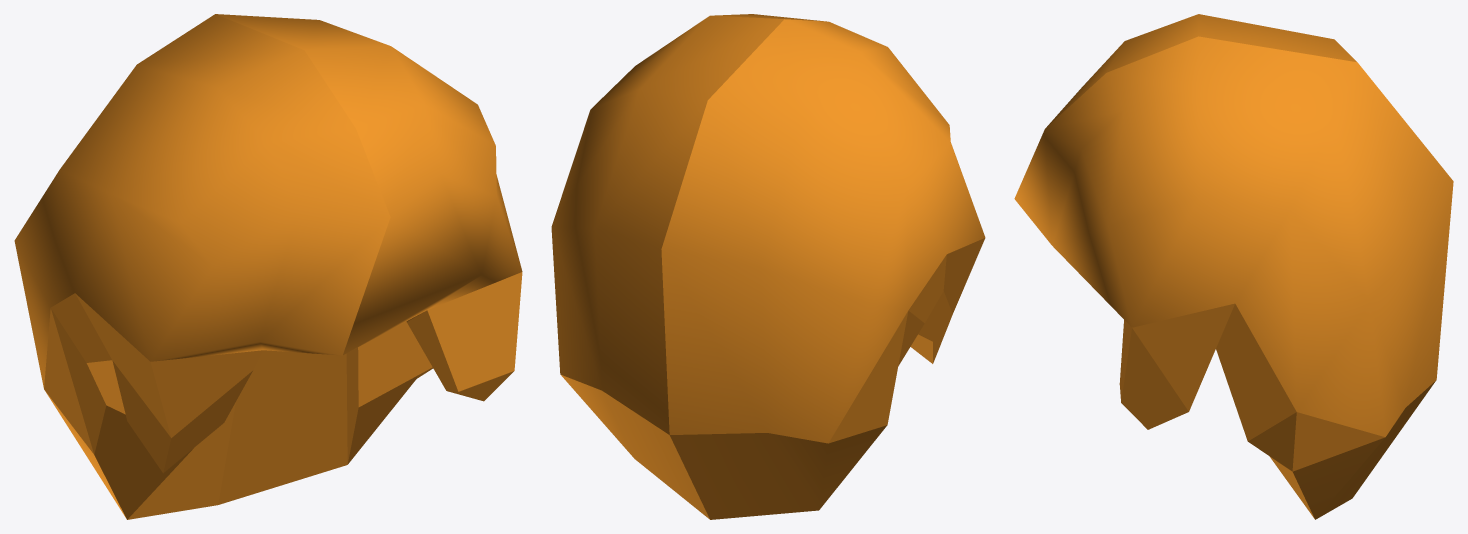
The model's file is HairMediumBlonde.fbx.
The picture shows the model from 3 angles, left to right: view 1: azimuth 30°, elevation 25°; view 2: azimuth 150°, elevation 25°; view 3: azimuth 270°, elevation 25°; orthographic projection. The views are drawn at different scales.
Parts seen in each view (by area): view 1: HairMediumBlonde; view 2: HairMediumBlonde; view 3: HairMediumBlonde.
Part boxes in pixels (<box>): HairMediumBlonde: <box>14,14,522,519</box>; HairMediumBlonde: <box>551,14,985,519</box>; HairMediumBlonde: <box>1014,14,1453,519</box>.
Size of the model in its own units: 54.2 by 67.38 by 58.05.
